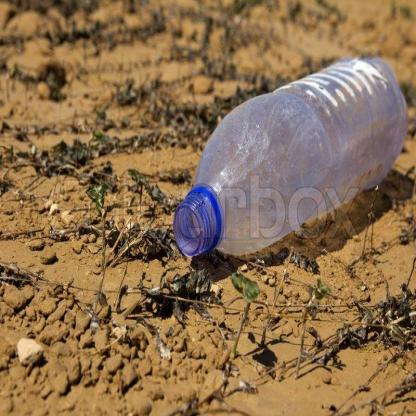Glass Bottle: (174, 57, 409, 256)
